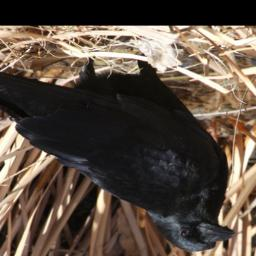Crow: (0, 56, 241, 253)
